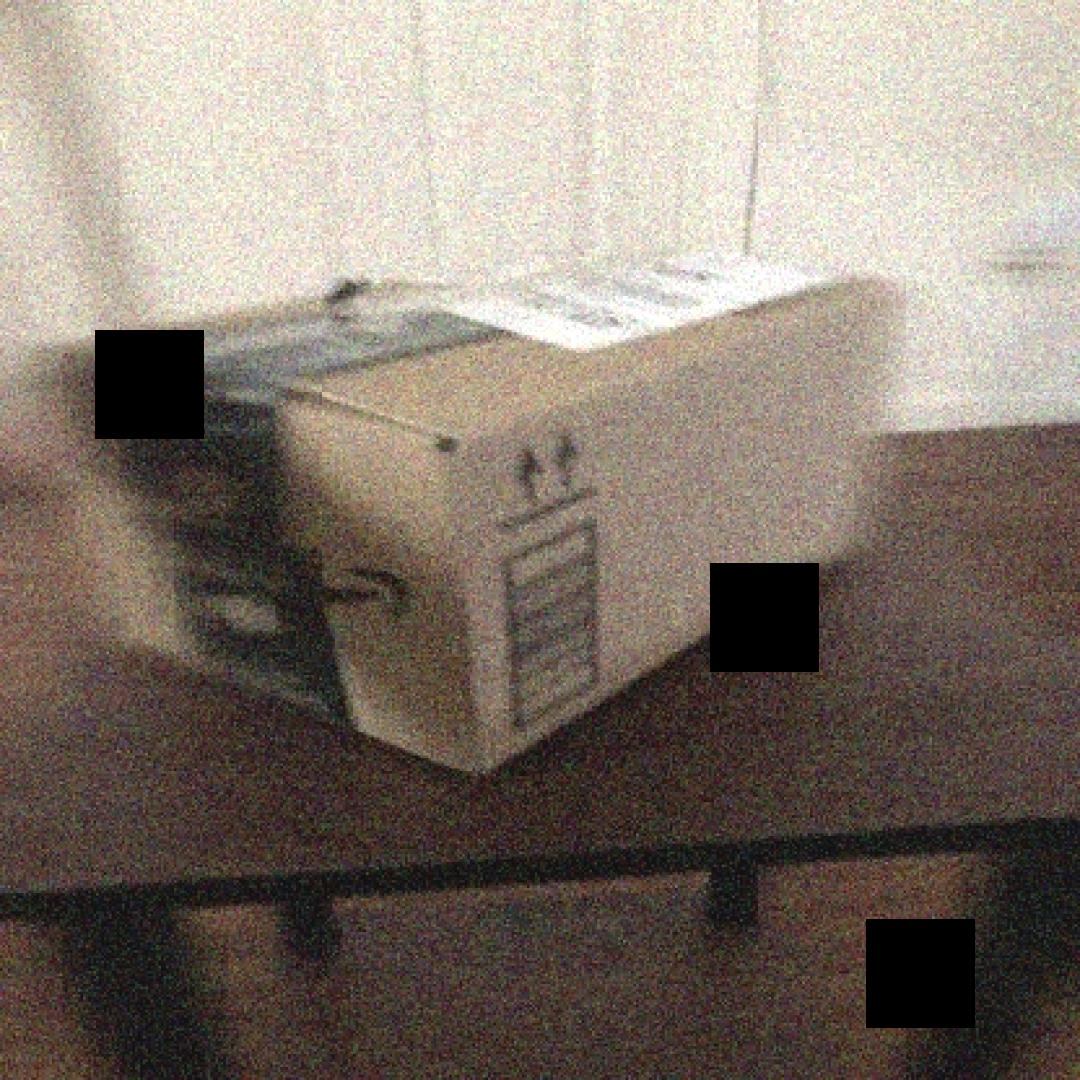package: (23, 246, 904, 786)
